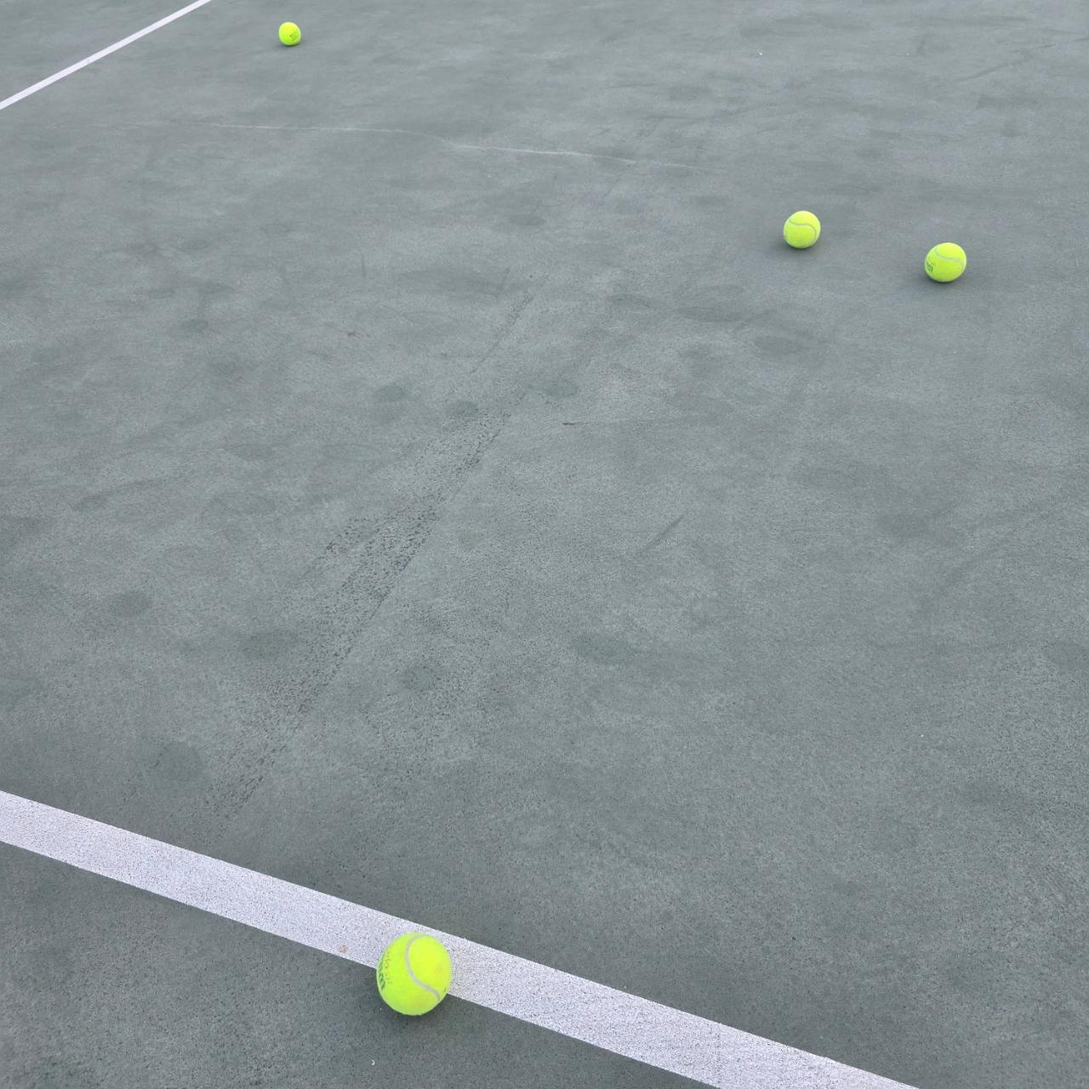tennis-ball: (374, 930, 453, 1017), (922, 239, 967, 282), (781, 208, 822, 249), (277, 20, 301, 46)
